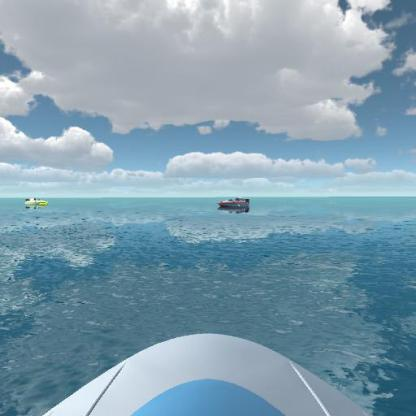usv2: (23, 193, 50, 212)
usv3: (215, 194, 252, 216)
